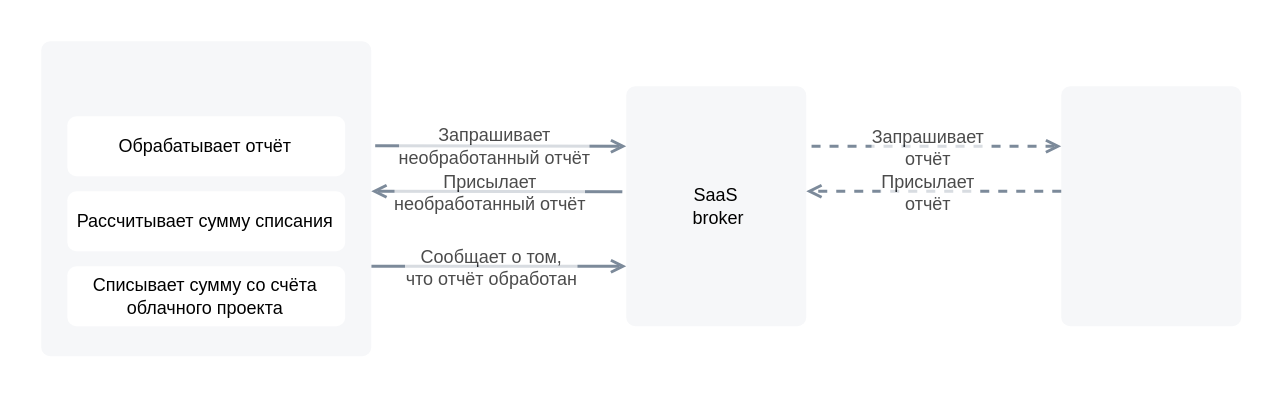
Some shapes in this 1281 by 396 pixel diagram are drawn without their labels. Each missing label, with the box of its shape:
Marketplace (XaaS): (40, 40, 370, 356)
SaaS: (1060, 86, 1240, 326)
